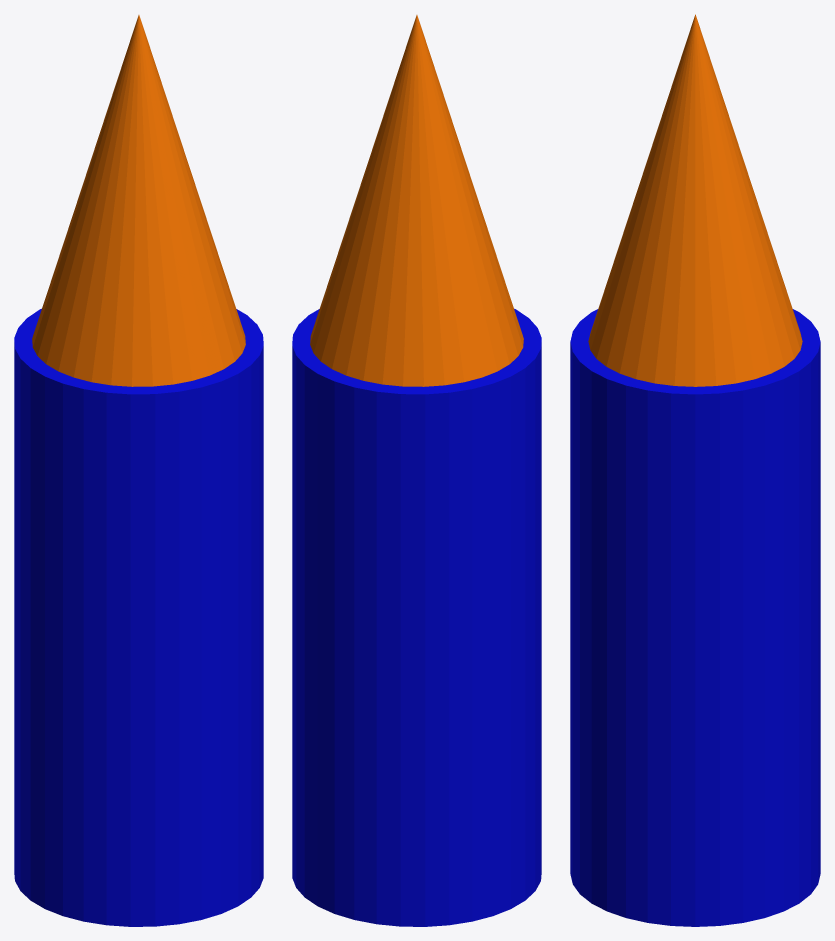
File: bullet.fbx
3 renders of one model, left to right at view 1: azimuth 30°, elevation 25°; view 2: azimuth 150°, elevation 25°; view 3: azimuth 270°, elevation 25°, orthographic.
Visible parts, largest first — view 1: Cylinder; view 2: Cylinder; view 3: Cylinder.
Part boxes in pixels (box(x1,y1,x2,y2)): Cylinder: box(14, 15, 263, 926); Cylinder: box(292, 15, 541, 926); Cylinder: box(570, 14, 820, 926).
Bounding box in the file's own units: 37.81 × 37.81 × 143.
